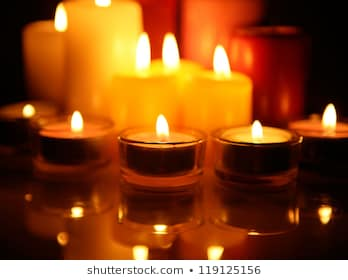Fire: (159, 29, 182, 71), (209, 44, 231, 77), (135, 30, 151, 69), (320, 100, 340, 131), (155, 111, 170, 138), (67, 106, 83, 130), (247, 118, 263, 141)
